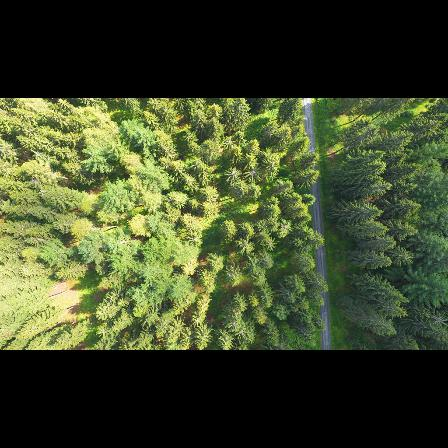Sick: (224, 316, 242, 332), (243, 165, 259, 182), (227, 166, 241, 185), (234, 327, 251, 342), (221, 137, 237, 151)
